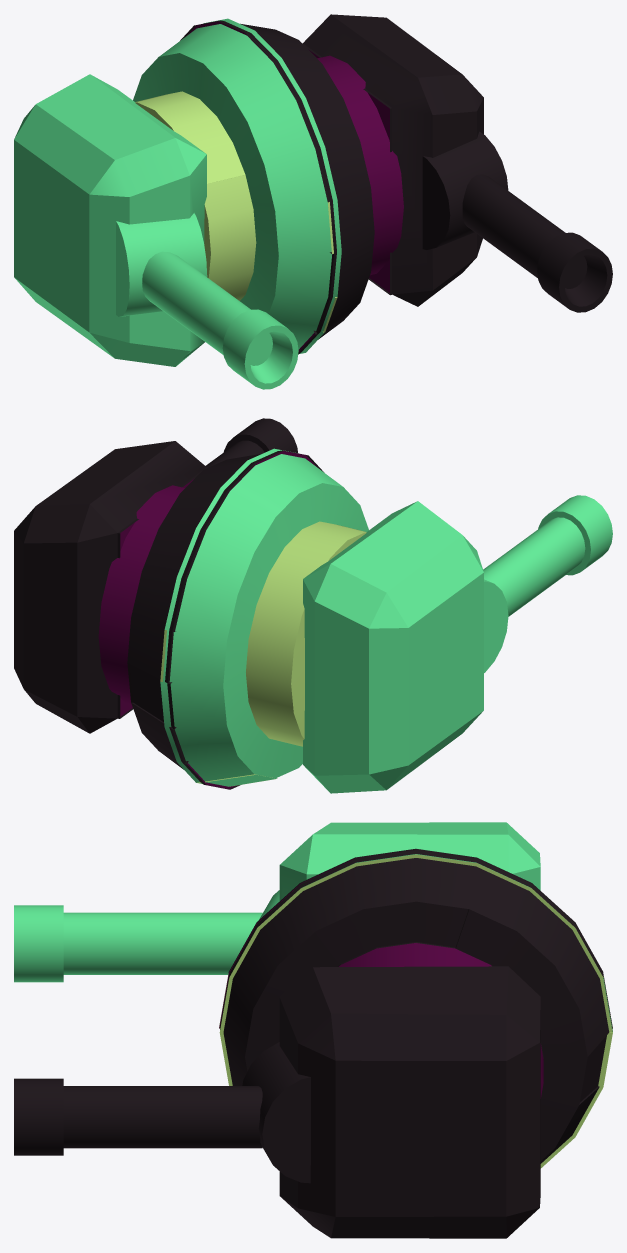
Rendered from Enemy_W.fbx.
The picture shows the model from 3 angles, top to bottom: view 1: azimuth 30°, elevation 25°; view 2: azimuth 150°, elevation 25°; view 3: azimuth 270°, elevation 25°; orthographic projection. The views are drawn at different scales.
Visible parts, largest first — view 1: Enemy_W; view 2: Enemy_W; view 3: Enemy_W.
Part boxes in pixels (x1=…): Enemy_W: x1=14, y1=14, x2=612, y2=389; Enemy_W: x1=14, y1=418, x2=612, y2=793; Enemy_W: x1=14, y1=822, x2=612, y2=1238.
Size of the model in its own units: 210 by 160 by 244.
